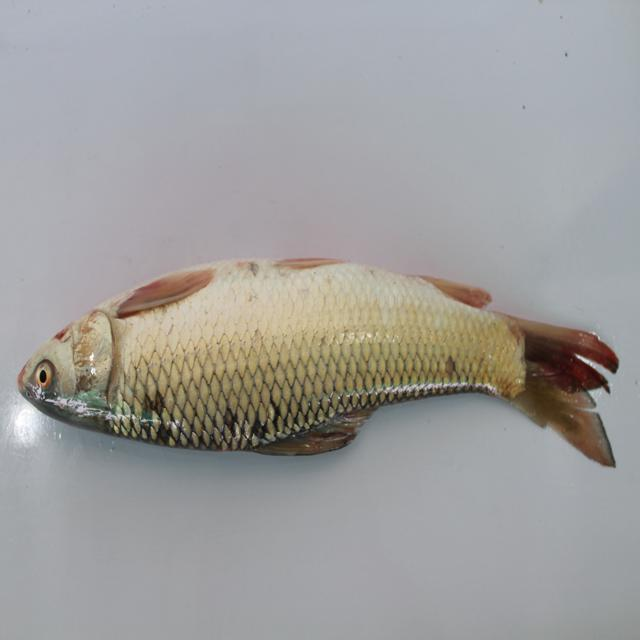Mori: (23, 242, 632, 512)
